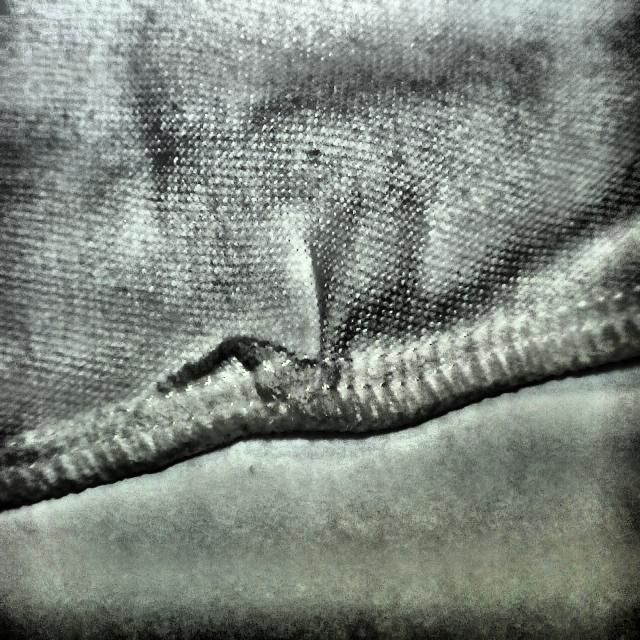gray stitch: (167, 246, 359, 436)
